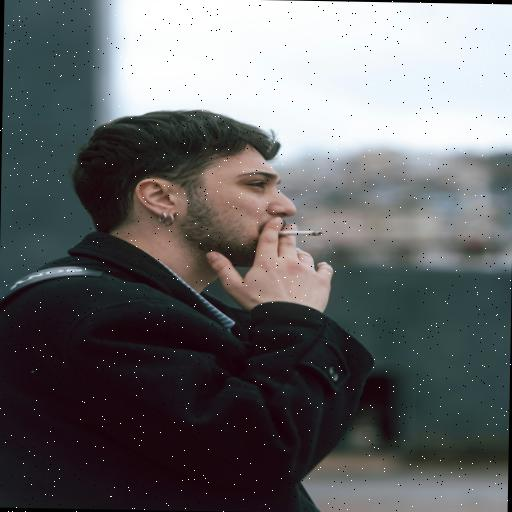terdeteksi merokok: (221, 166, 340, 272)
